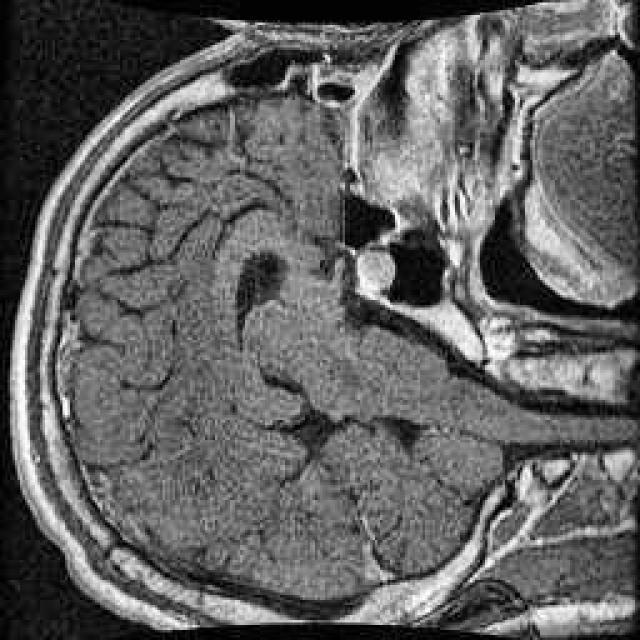Tumor: (350, 233, 415, 300)
